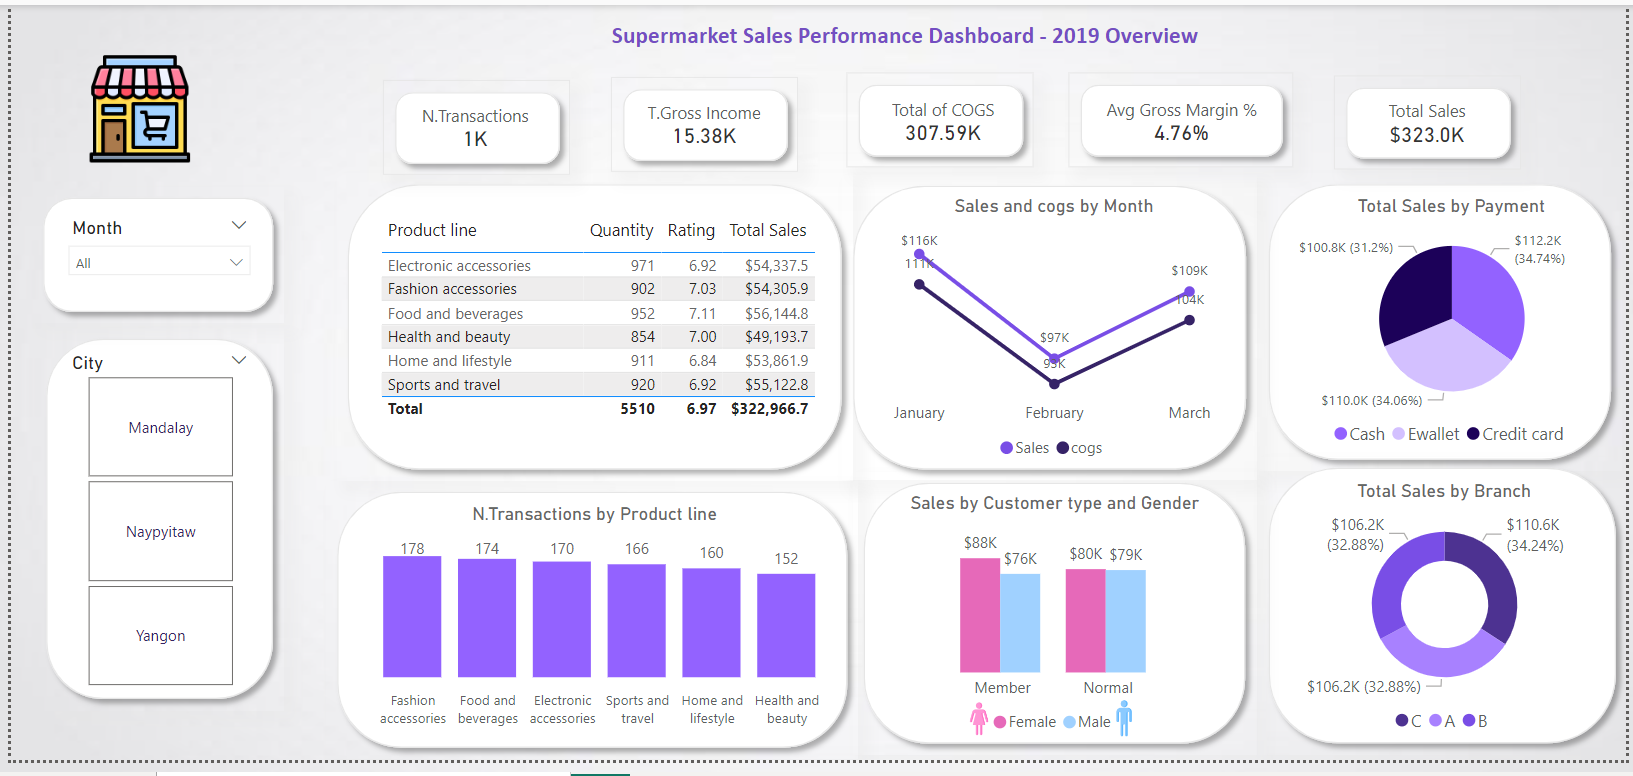

Layout of this report page (visuals, bound fields, positions):
{"tool":"powerbi","page":{"name":"Dashboard","canvas":[1280,720],"ordinal":0},"visuals":[{"type":"cardVisual","fields":{"Data":["supermarket_sales.N.Transactions"]},"box":[1044,98.3,236,121],"z":0},{"type":"cardVisual","fields":{"Data":["supermarket_sales.Total Sales"]},"box":[792.8,96.8,251.2,124.1],"z":1000},{"type":"cardVisual","fields":{"Data":["supermarket_sales.Total of COGS"]},"box":[549.2,98.3,243.6,122.6],"z":2000},{"type":"cardVisual","fields":{"Data":["supermarket_sales.T.Gross Income"]},"box":[0,96.8,258.7,121],"z":3000},{"type":"cardVisual","fields":{"Data":["supermarket_sales.Average Gross Margin %"]},"box":[248.1,96.8,301.1,121],"z":4000},{"type":"textbox","box":[0,6.1,549.2,80.2],"z":5000},{"type":"slicer","fields":{"Values":["supermarket_sales.Date.Variation.Date Hierarchy.Month"]},"box":[1089.4,6.1,190.6,80.2],"z":6000},{"type":"pieChart","title":"Sales by Branch","fields":{"Category":["supermarket_sales.Branch"],"Y":["supermarket_sales.Total Sales"]},"box":[1016.7,231.5,263.3,242.1],"z":7000},{"type":"lineChart","title":"Sales and COGS by Month","fields":{"Category":["supermarket_sales.Date.Variation.Date Hierarchy.Month"],"Y":["Sum(supermarket_sales.Total)","Sum(supermarket_sales.cogs)"]},"box":[857.9,479.6,422.1,240.6],"z":8000},{"type":"pieChart","title":"Sales by Payment","fields":{"Y":["supermarket_sales.Total Sales"],"Category":["supermarket_sales.Payment"]},"box":[239.1,231.5,267.8,243.6],"z":9000},{"type":"treemap","title":"Sales by Gender","fields":{"Group":["supermarket_sales.Gender"],"Values":["Sum(supermarket_sales.Total)"]},"box":[0,231.5,233,243.6],"z":10000},{"type":"columnChart","title":"Sales by Customer type","fields":{"Category":["supermarket_sales.Customer type"],"Y":["supermarket_sales.Total Sales"]},"box":[4.5,479.4,326.8,240.6],"z":11000},{"type":"tableEx","fields":{"Values":["supermarket_sales.Product line","supermarket_sales.Total Sales","Sum(supermarket_sales.Quantity)","supermarket_sales.Total of COGS","Avg(supermarket_sales.Rating)"]},"box":[337.4,479.4,515.9,240.6],"z":12000},{"type":"clusteredColumnChart","title":"Number of Transactions by Product line","fields":{"Y":["supermarket_sales.N.Transactions"],"Category":["supermarket_sales.Product line"]},"box":[512.9,230,497.8,243.6],"z":13000},{"type":"slicer","fields":{"Values":["supermarket_sales.City"]},"box":[621.8,6.1,463,80.2],"z":14000}]}

Visuals, with their boxes on the page's 1280x720 design canvas (x1, y1, x2, y2). These are canvas units, not pixel positions in the 1633x776 screenshot, which may show the page scaled, cropped or inside an application window:
cardVisual - supermarket_sales.N.Transactions: 1044,98,1280,219
cardVisual - supermarket_sales.Total Sales: 793,97,1044,221
cardVisual - supermarket_sales.Total of COGS: 549,98,793,221
cardVisual - supermarket_sales.T.Gross Income: 0,97,259,218
cardVisual - supermarket_sales.Average Gross Margin %: 248,97,549,218
textbox: 0,6,549,86
slicer - supermarket_sales.Date.Variation.Date Hierarchy.Month: 1089,6,1280,86
"Sales by Branch" pieChart: 1017,232,1280,474
"Sales and COGS by Month" lineChart: 858,480,1280,720
"Sales by Payment" pieChart: 239,232,507,475
"Sales by Gender" treemap: 0,232,233,475
"Sales by Customer type" columnChart: 4,479,331,720
tableEx - supermarket_sales.Product line x supermarket_sales.Total Sales: 337,479,853,720
"Number of Transactions by Product line" clusteredColumnChart: 513,230,1011,474
slicer - supermarket_sales.City: 622,6,1085,86
